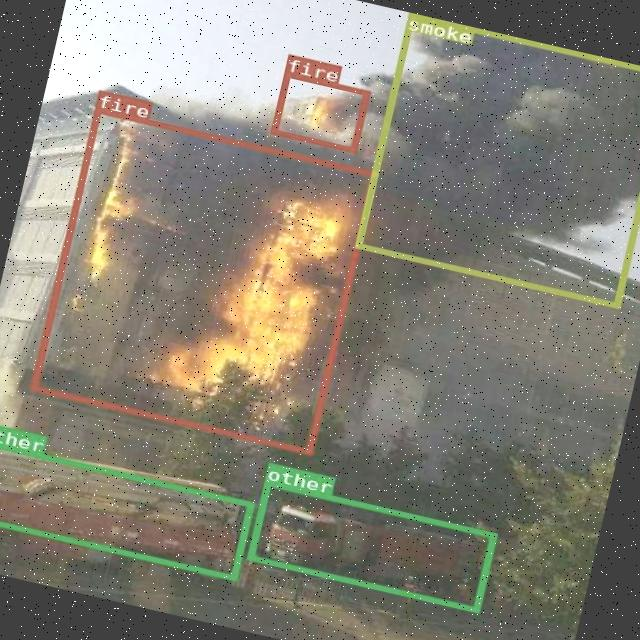fire: (29, 106, 376, 453), (268, 70, 368, 152)
smoke: (353, 11, 640, 306)
